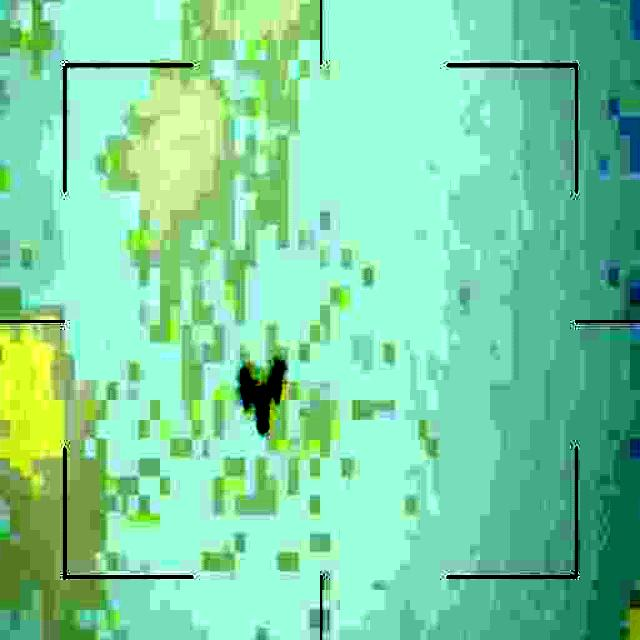bird: (229, 356, 289, 436)
